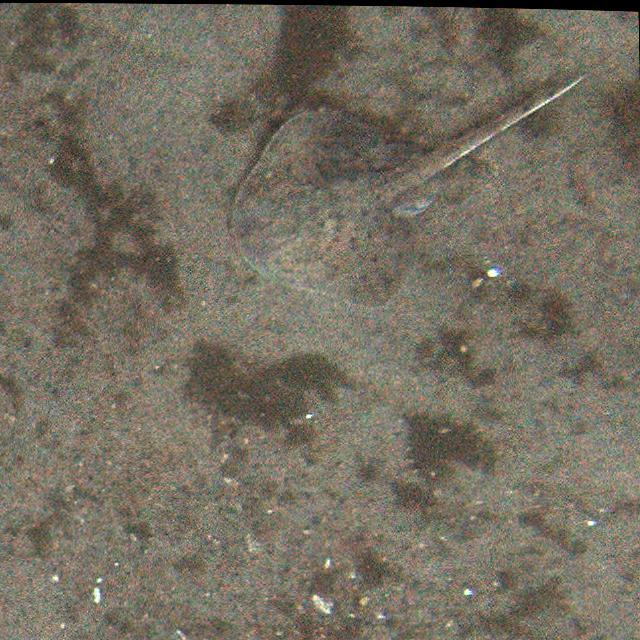skate: (229, 64, 582, 319)
